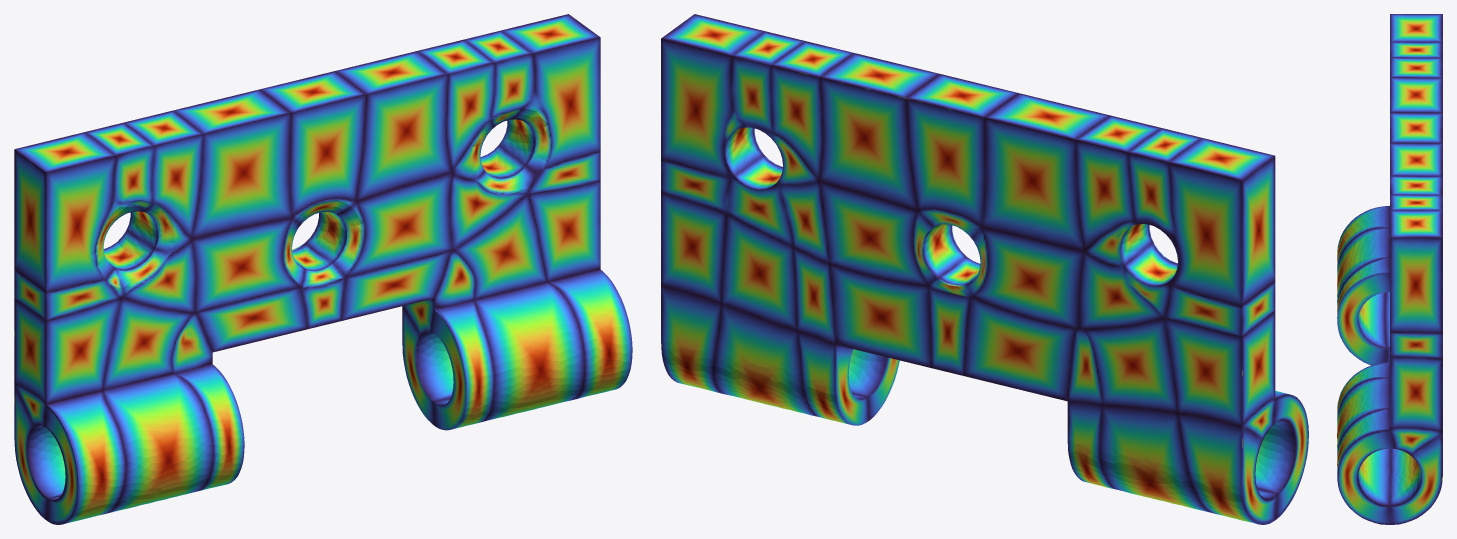
File: gen3.glb
The picture shows the model from 3 angles, left to right: view 1: azimuth 30°, elevation 25°; view 2: azimuth 150°, elevation 25°; view 3: azimuth 270°, elevation 25°; orthographic projection. The views are drawn at different scales.
Visible parts, largest first — view 1: Node; view 2: Node; view 3: Node.
Boxes of the visible parts, left/top/right/bottom form: Node: left=14, top=14, right=632, bottom=524; Node: left=661, top=14, right=1308, bottom=524; Node: left=1337, top=14, right=1442, bottom=524.
Bounding box in the file's own units: 50 × 30 × 10.
Materials: 1 (1 with a texture image).
